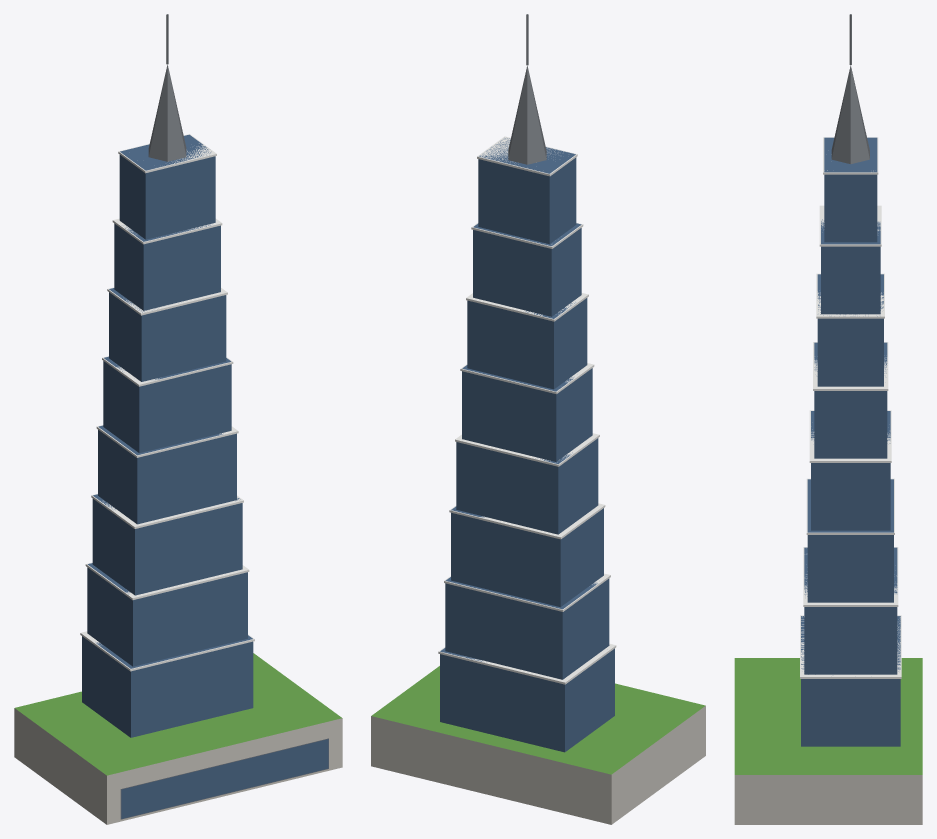
Rendered from tour_hotel.glb.
3 views of the same model, side by side, from view 1: azimuth 30°, elevation 25°; view 2: azimuth 150°, elevation 25°; view 3: azimuth 270°, elevation 25° (orthographic). The views are drawn at different scales.
Visible parts, largest first — view 1: tour_hotel; view 2: tour_hotel; view 3: tour_hotel.
Part boxes in pixels (left/top/right/bottom): tour_hotel: left=14, top=14, right=342, bottom=824; tour_hotel: left=371, top=14, right=705, bottom=824; tour_hotel: left=734, top=14, right=922, bottom=824.
Size of the model in its own units: 50 by 150 by 34.05.
1 material, 1 textured.
